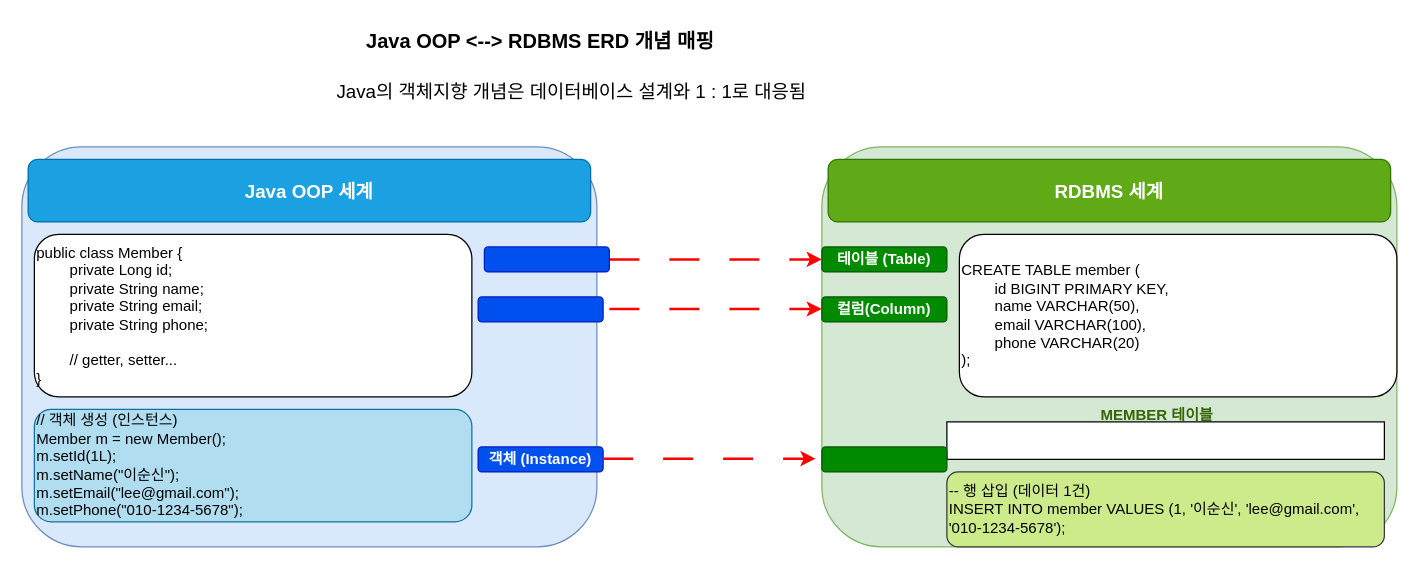
Some shapes in this 1419 by 569 pixel diagram are drawn without their labels. Here are the shapes that lost their labels. From the top down, the centre of each, then its label:
the point at 546,259: 클래스 (Class)
the point at 540,309: 필드 (Field)
the point at 884,459: 행(Row)
the point at 1165,440: 1 | 이순신 | lee@gmail.com | 010-1234-5678
